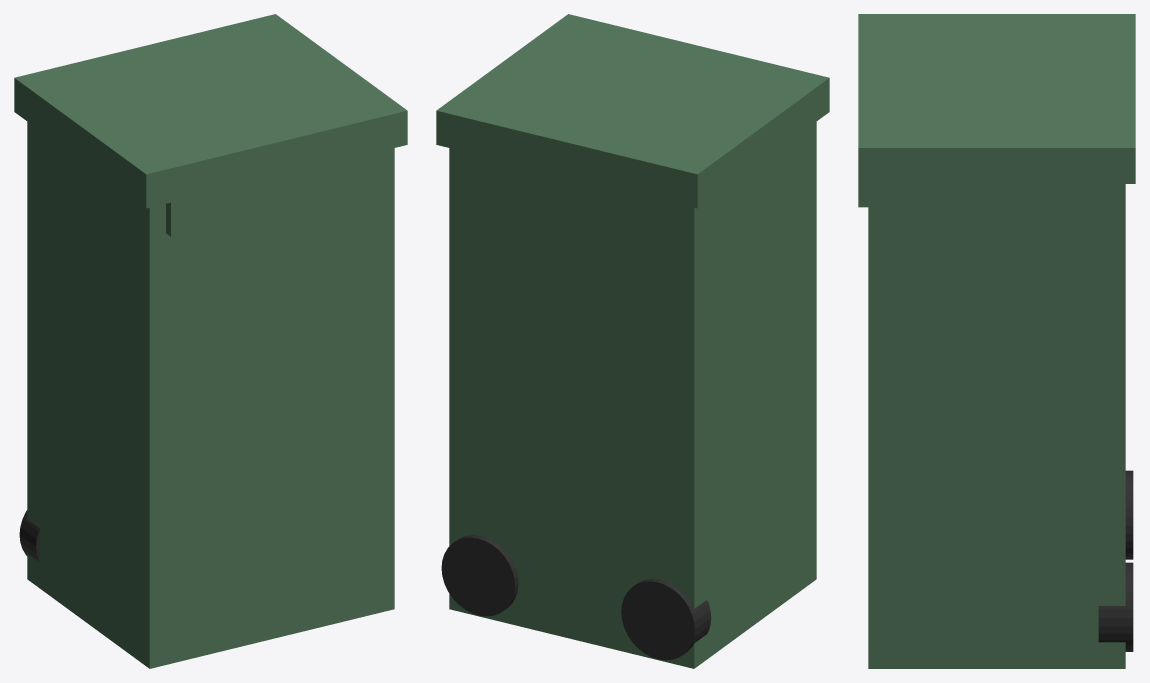
The model's file is Bin.glb.
3 views of the same model, side by side, from view 1: azimuth 30°, elevation 25°; view 2: azimuth 150°, elevation 25°; view 3: azimuth 270°, elevation 25° (orthographic). The views are drawn at different scales.
Visible parts, largest first — view 1: BinBody, BinLid, BinHandle, BinWheel1; view 2: BinBody, BinLid, BinWheel1, BinWheel2; view 3: BinBody, BinLid, BinWheel2, BinWheel1.
Part boxes in pixels (bbox=[...]): BinBody: bbox=[27, 122, 394, 668]; BinLid: bbox=[14, 14, 407, 208]; BinHandle: bbox=[166, 151, 383, 236]; BinWheel1: bbox=[19, 510, 39, 562]; BinBody: bbox=[449, 122, 816, 668]; BinLid: bbox=[436, 14, 829, 208]; BinWheel1: bbox=[621, 579, 711, 660]; BinWheel2: bbox=[441, 535, 518, 616]; BinBody: bbox=[868, 184, 1125, 668]; BinLid: bbox=[858, 14, 1135, 183]; BinWheel2: bbox=[1098, 562, 1133, 651]; BinWheel1: bbox=[1125, 470, 1133, 559].
Bounding box in the file's own units: 0.64 × 1.17 × 0.56.
